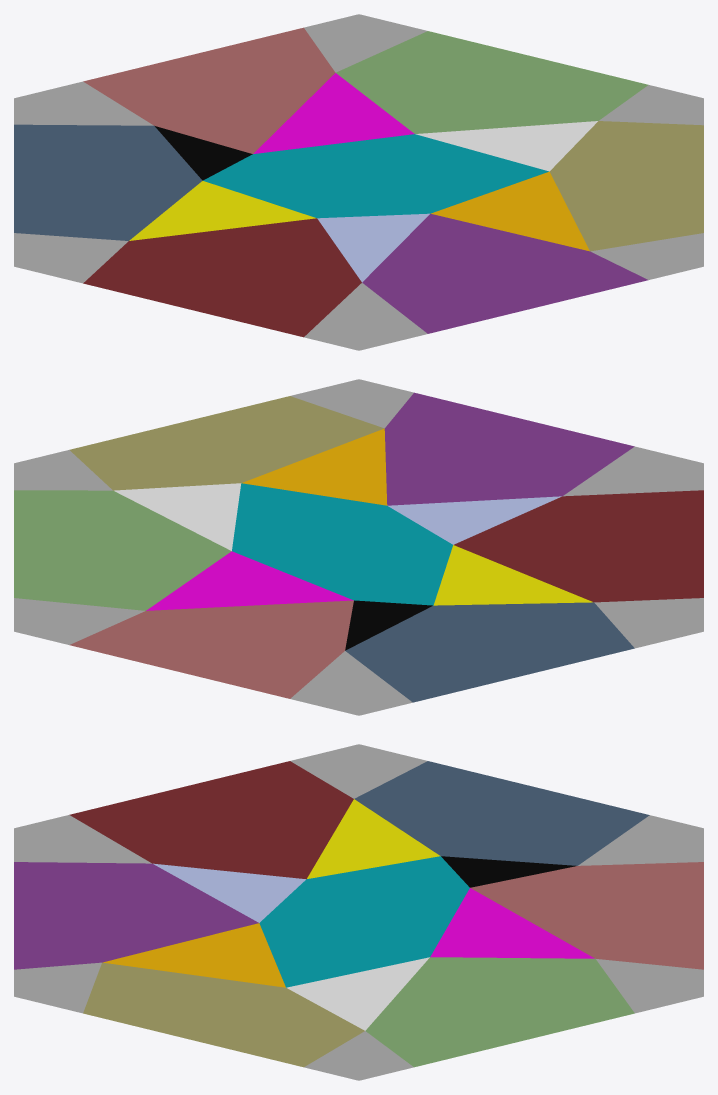
Rendered from Connections.fbx.
The picture shows the model from 3 angles, top to bottom: view 1: azimuth 30°, elevation 25°; view 2: azimuth 150°, elevation 25°; view 3: azimuth 270°, elevation 25°; orthographic projection.
Parts seen in each view (by area): view 1: Connection; view 2: Connection; view 3: Connection.
Boxes of the visible parts, <box> form: Connection: <box>14,14,703,350</box>; Connection: <box>14,379,703,715</box>; Connection: <box>14,744,703,1080</box>.
Size of the model in its own units: 2 by 0 by 1.73.
